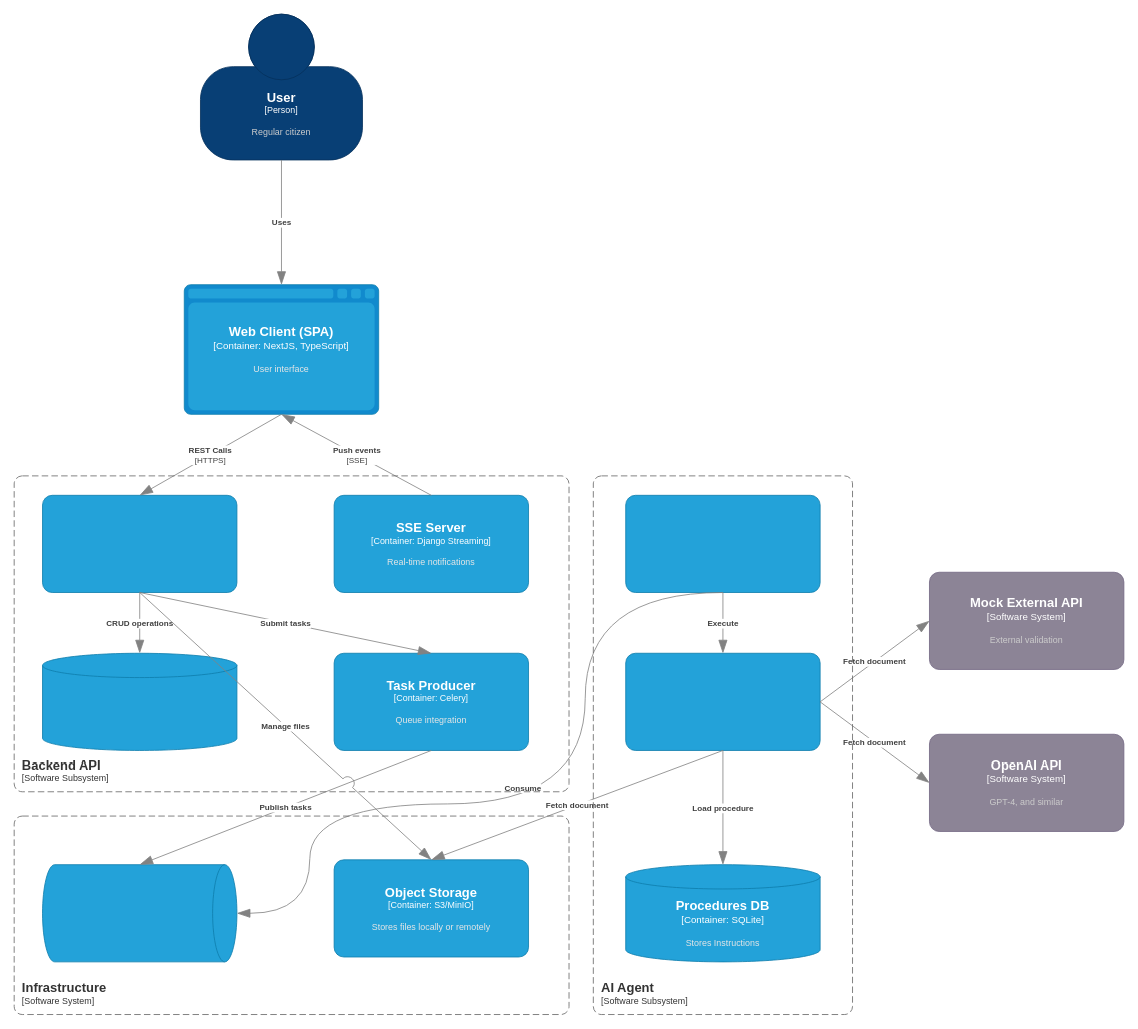
The diagram is 1138 pixels wide and 1029 high, and some of its shapes have lost their labels. Here are the shapes that lost their labels. From the top down, the centre of each, then its label:
the point at 139,544: Backend API Core [Container: Django + DRF] HTTP Endpoints, business logic, etc.
the point at 722,544: Task Consumer [Container: Celery Worker] Receives tasks
the point at 139,701: PostgreSQL [Container: Relational DB] App, document, user data
the point at 722,701: Agent Core [Container: LangChain, LangGraph, etc.] LLM orchestration
the point at 139,913: Message Queue [Container: Redis/RabbitMQ] Task queue
